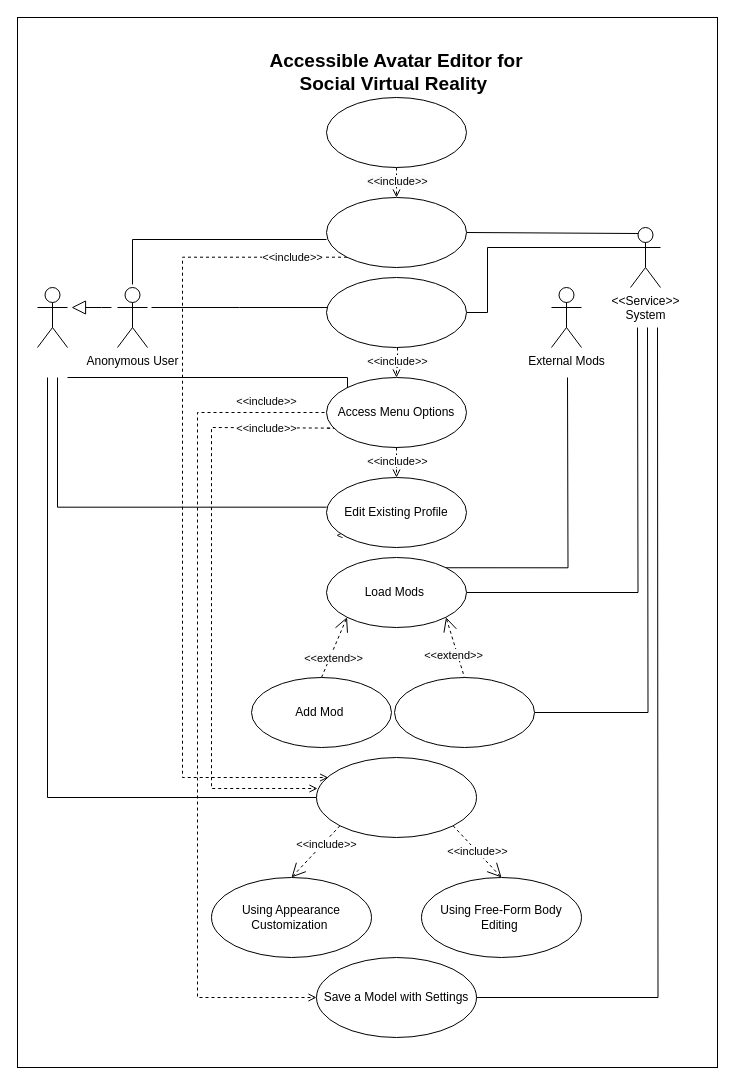
Image size: 735x1085. Some labels were removed from this diagram. The centre of each missing label's shape, as x and y in pixels:
Access Avatar Customization Menu: the point at 396,797
Load Profile: the point at 396,312
Player: the point at 52,317
Register Profile: the point at 396,232
Reject Mod: the point at 464,712
Start Game: the point at 396,132
